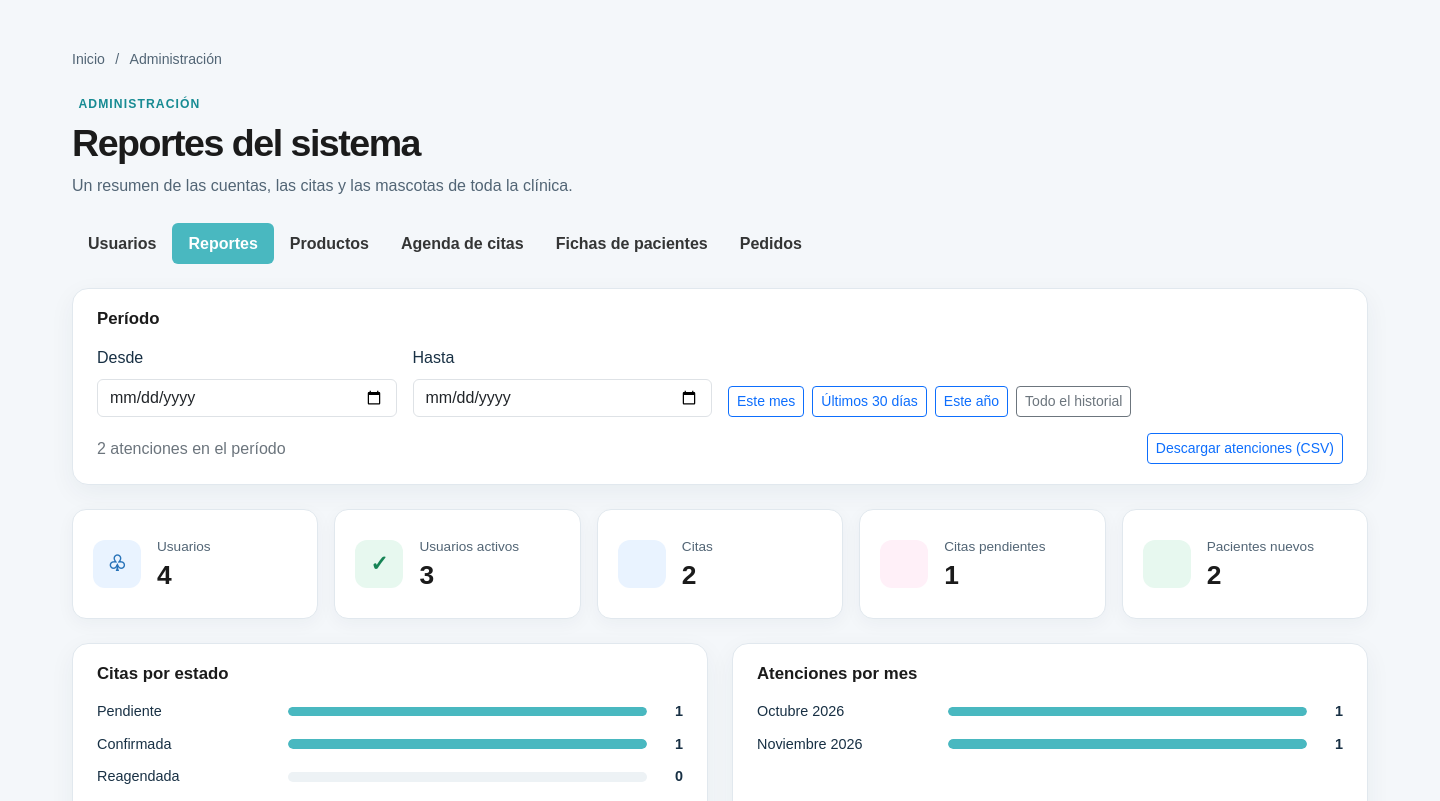
Test: Reportes (administración) › período y exportación › el atajo «Todo el historial» quita el período
Step 1. Type "2026-11-01" into the date field labelled "Desde" → (247, 398), box [97,379,396,417]
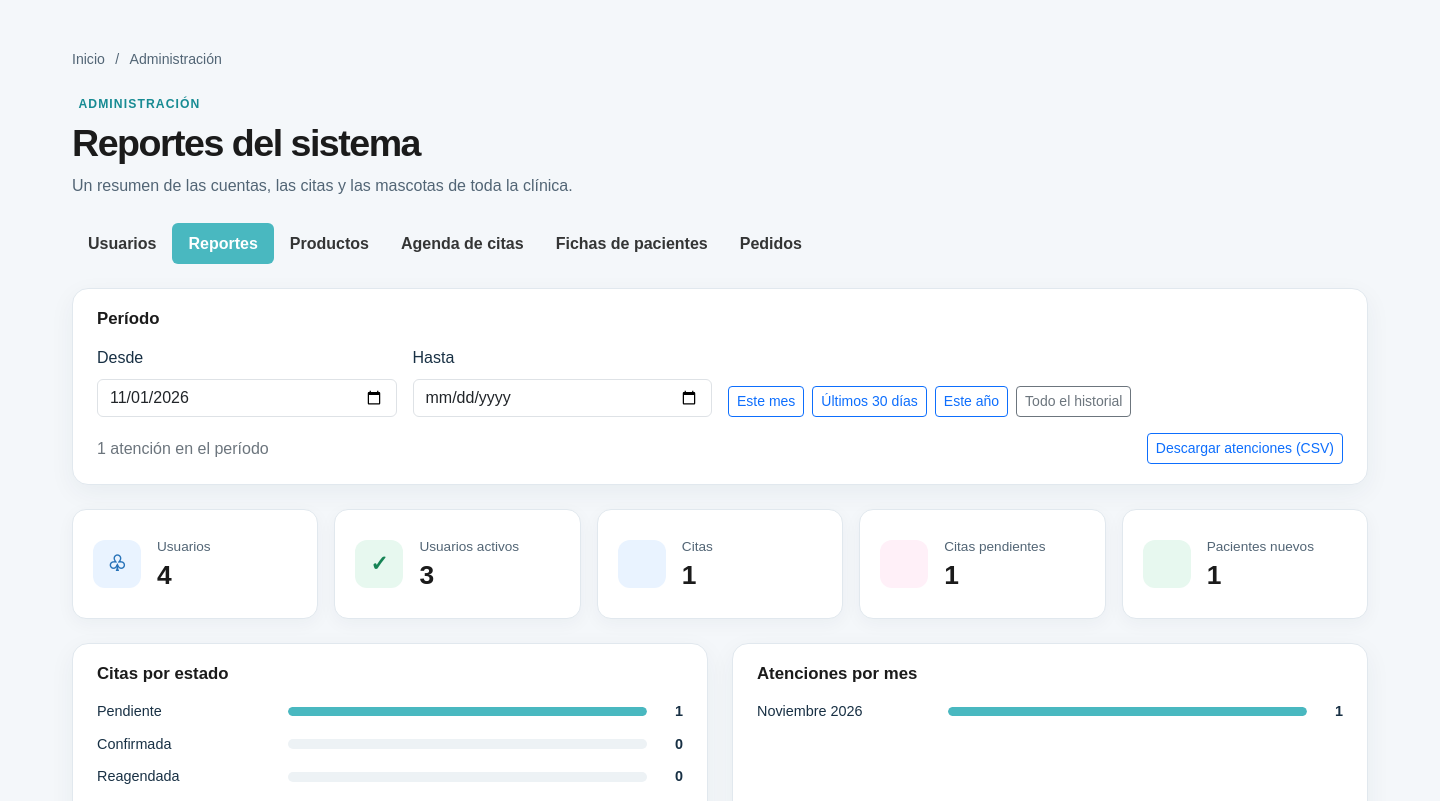
Step 2. Click the button "Todo el historial" → (1074, 401), box [1016,386,1131,417]
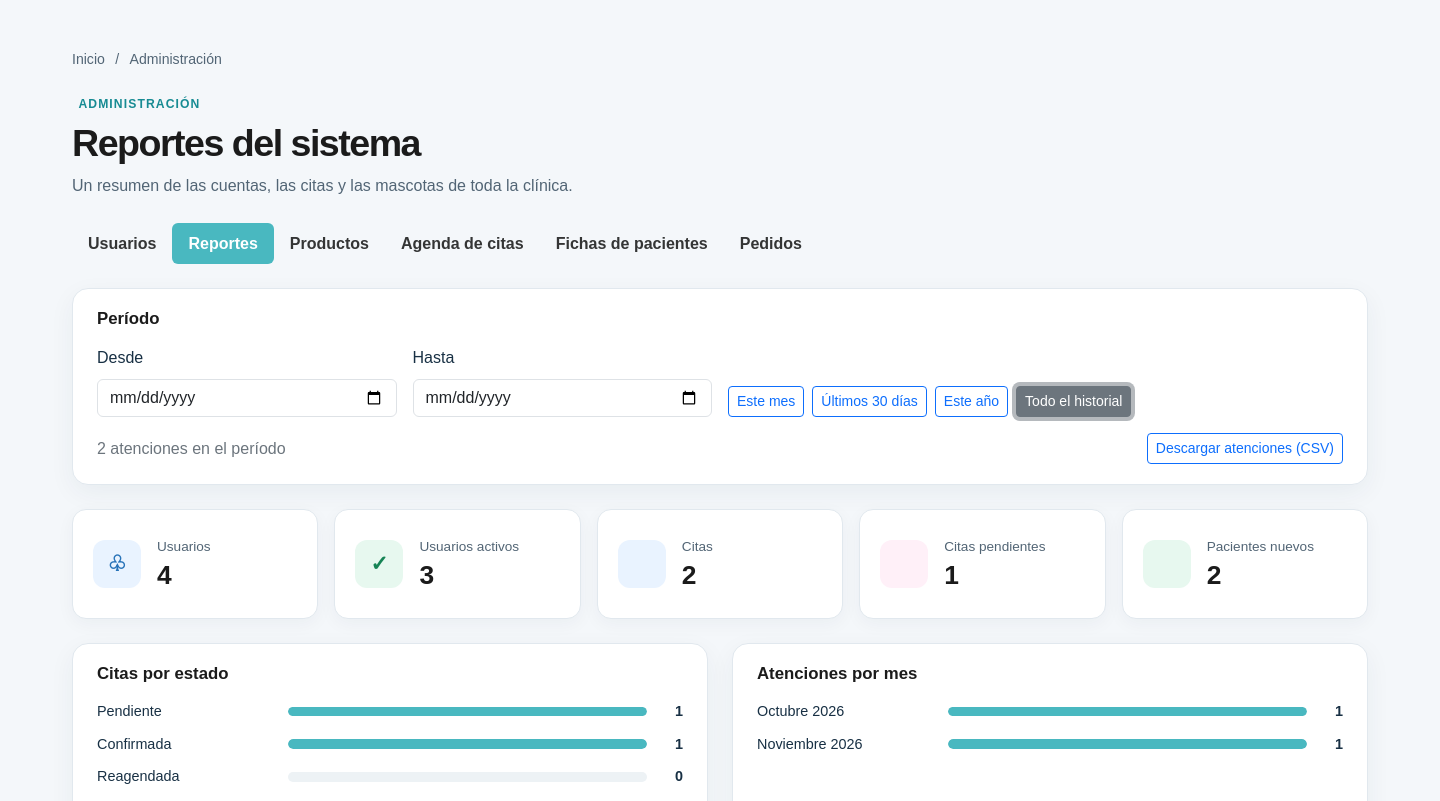
Check: the date field labelled "Desde" is empty, box [97,379,396,417]
Check: the text "2 atenciones en el período" is shown, box [97,436,286,461]
